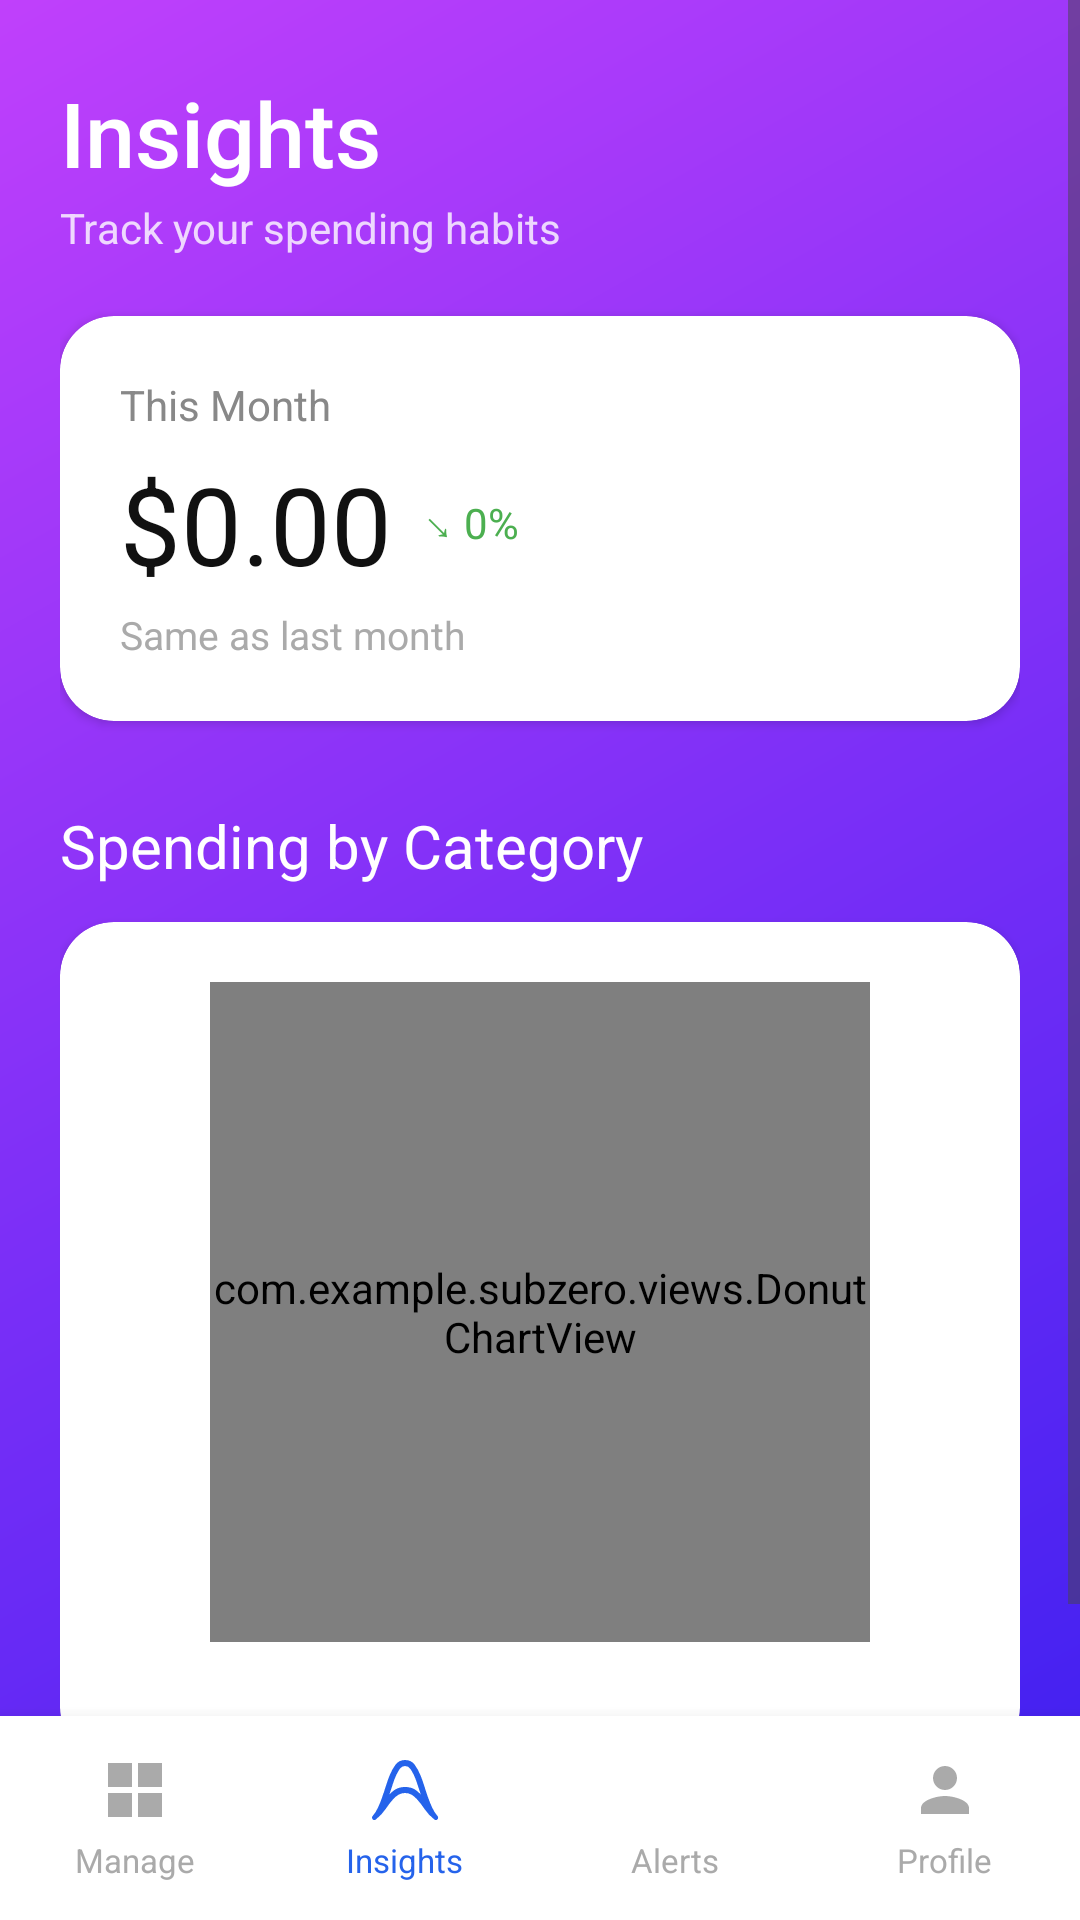

Point at icon controls on the screen. Image size 1080 x 1920, points as [x,y].
grid: [135,1790]
person: [945,1790]
